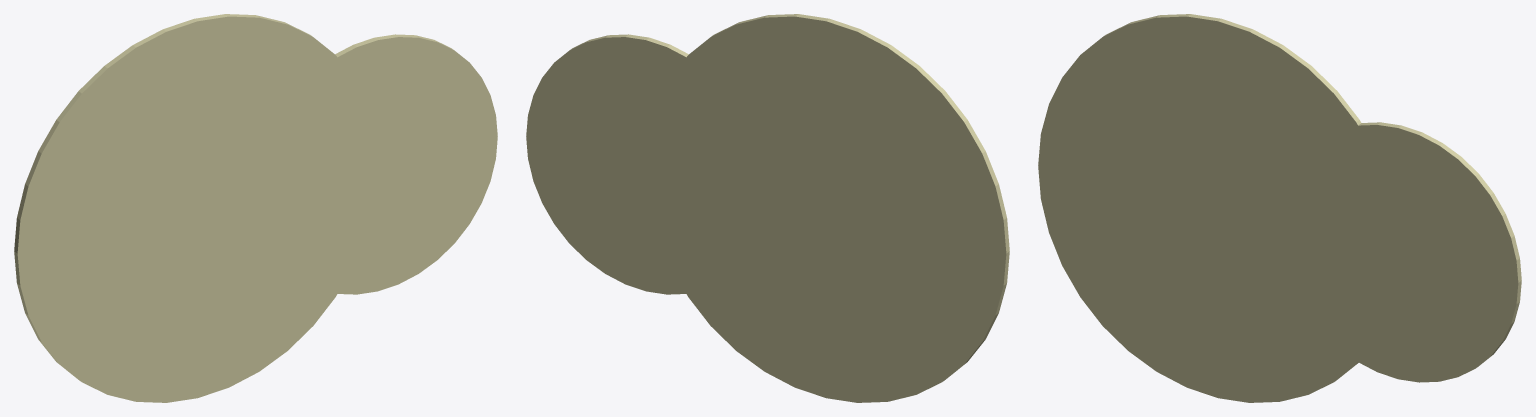
File: union2d.glb
3 views of the same model, side by side, from view 1: azimuth 30°, elevation 25°; view 2: azimuth 150°, elevation 25°; view 3: azimuth 330°, elevation 25° (orthographic).
Visible parts, largest first — view 1: geometry_0; view 2: geometry_0; view 3: geometry_0.
Part boxes in pixels (<box>): geometry_0: <box>14,14,497,402</box>; geometry_0: <box>526,14,1009,402</box>; geometry_0: <box>1038,14,1521,402</box>.
Bounding box in the file's own units: 16 × 12 × 0.2.
